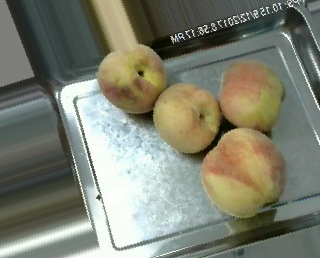Peach: (202, 128, 285, 218), (97, 41, 168, 113), (152, 81, 221, 154), (218, 57, 284, 131)
